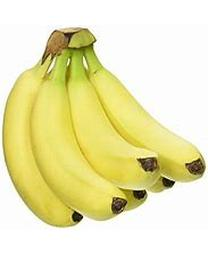banana: (0, 27, 206, 226)
